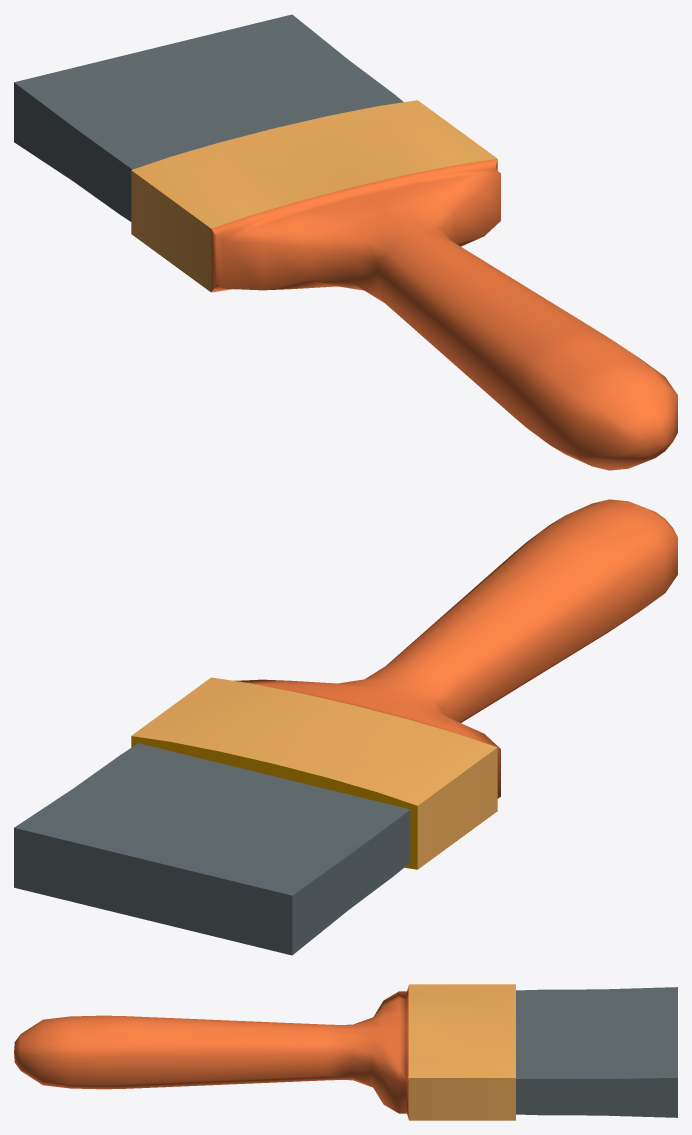
File: paint_brush.fbx
3 views of the same model, one above another, from view 1: azimuth 30°, elevation 25°; view 2: azimuth 150°, elevation 25°; view 3: azimuth 270°, elevation 25° (orthographic). The views are drawn at different scales.
Visible parts, largest first — view 1: pCylinder51; view 2: pCylinder51; view 3: pCylinder51.
Boxes of the visible parts, x1,y1,x2,y2 form: pCylinder51: (14,14,677,470); pCylinder51: (14,499,677,955); pCylinder51: (14,984,677,1120).
Size of the model in its own units: 15.88 by 5.01 by 47.68.
Materials: 1 (1 with a texture image).
